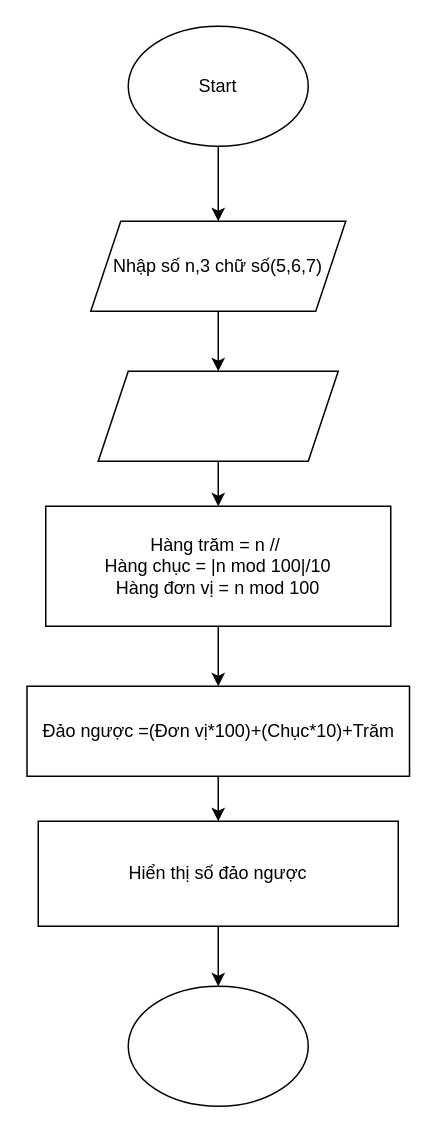
The diagram is 435 pixels wide and 1133 high, and some of its shapes have lost their labels. Each missing label, with the centre of its shape:
"End" belongs at point 217,1045.
"Tách các chữ số của n" belongs at point 217,415.
